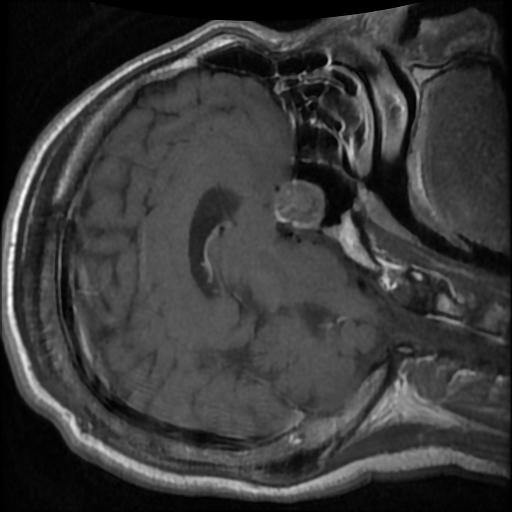pituitary tumour: (273, 180, 326, 232)
